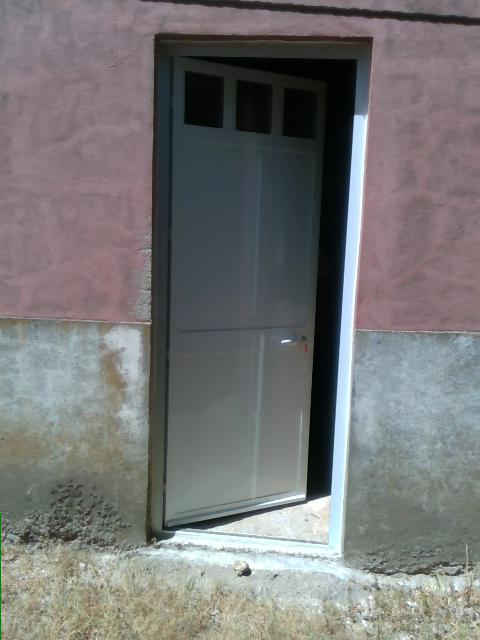semi_door: (143, 32, 373, 552)
